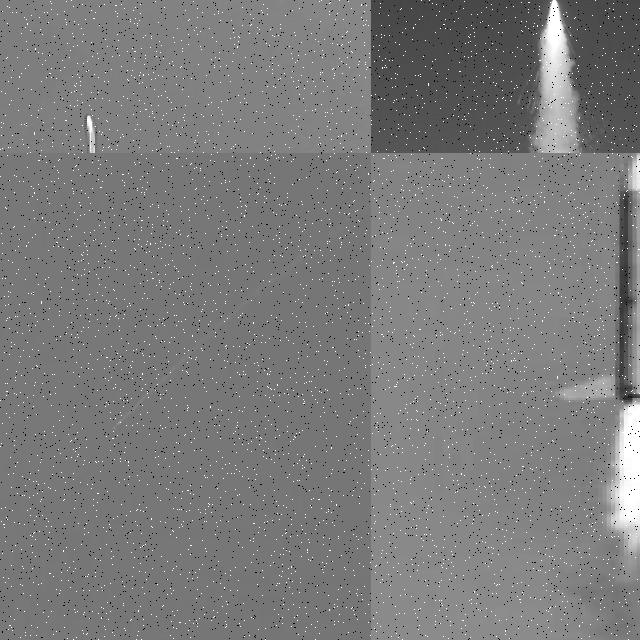Rocket: (548, 153, 640, 414), (78, 113, 103, 153), (112, 418, 123, 431)
